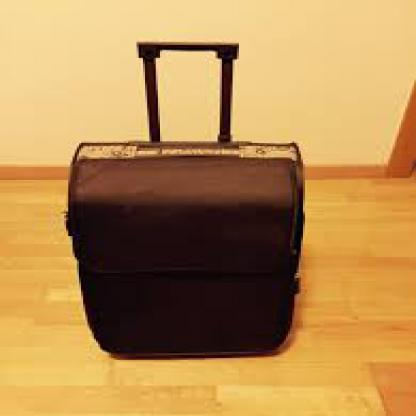maleta: (38, 133, 356, 376)
